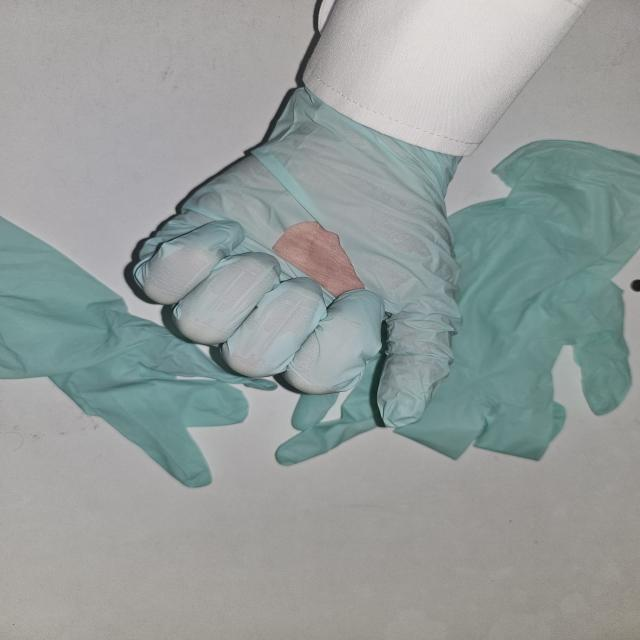gloves_damaged: (125, 81, 470, 431)
